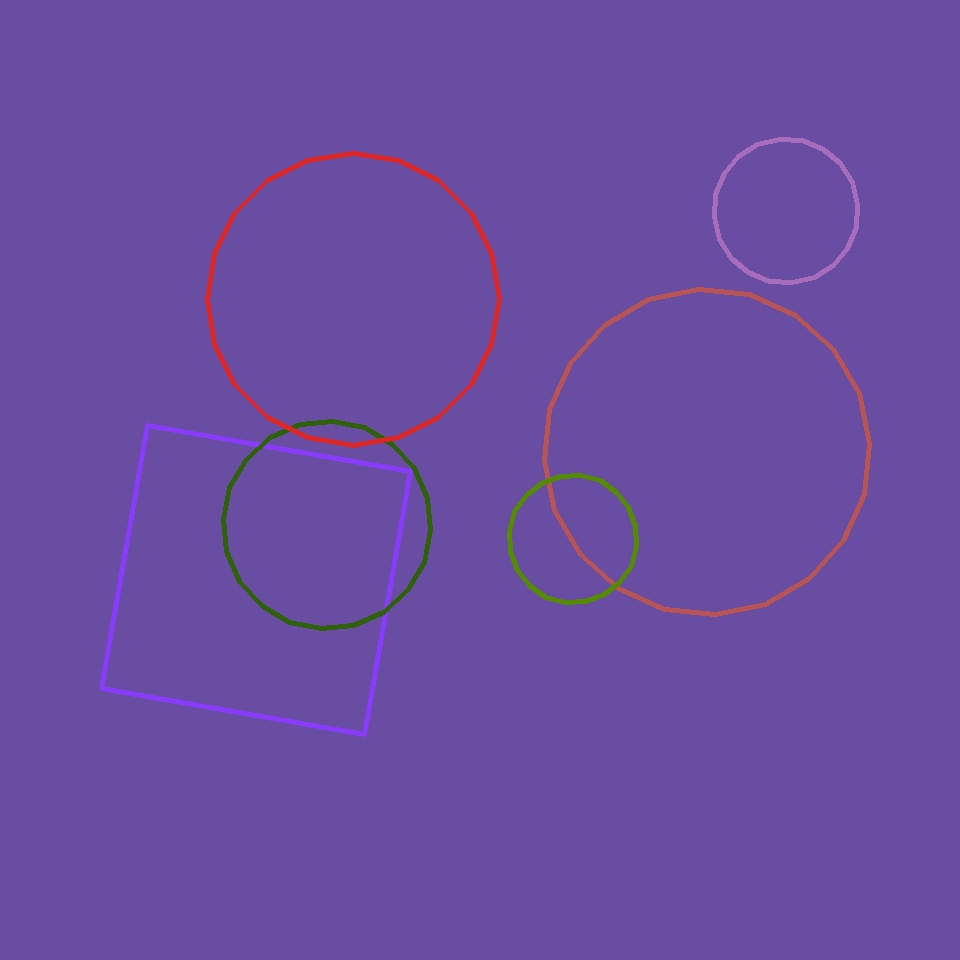square: (101, 425, 410, 734)
triangle: (544, 289, 870, 614), (207, 153, 499, 445), (224, 422, 431, 628), (714, 140, 858, 282), (510, 475, 636, 602)
